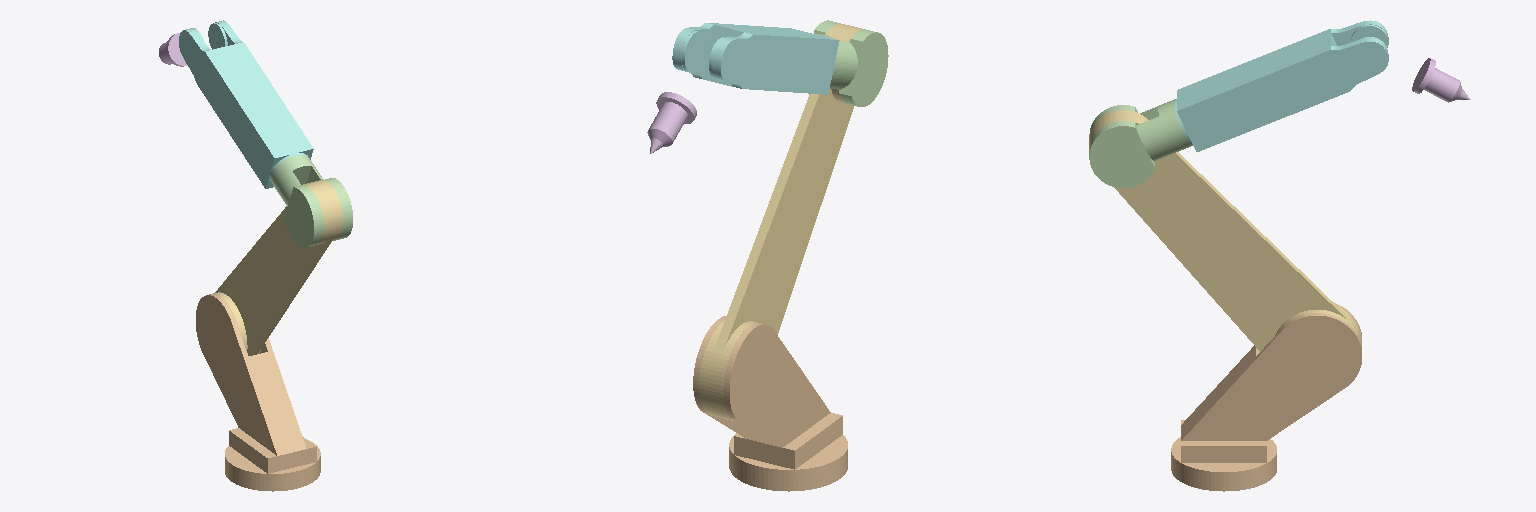
The robot description file, URDF, robot "sero_2":
<robot name="sero_2">

    <link name="world">
    <!--Bleibt erstmal leer -->
    </link>

    <joint name="fixed_link_to_world" type="fixed">
        <parent link="world"/>
        <child link="base"/>
    </joint>    

    <link name="base">
        <visual>
            <origin xyz="-1.5815932371176240324e-17 0.0003676064896688987756 1.2462514743223658495e-17" rpy="-9.3394600618250885692e-16 1.4558378780933280025e-22 -1.0606777952125936304e-24" />
            <geometry>
                <mesh filename="package://sero_2/meshes/base.stl" />
            </geometry>
            <material name="base_material">
                <color rgba="0.89019607843137249503 0.69803921568627447236 0.63921568627450975342 1.0" />
            </material>
        </visual>
        <collision>
            <origin xyz="-1.5815932371176240324e-17 0.0003676064896688987756 1.2462514743223658495e-17" rpy="-9.3394600618250885692e-16 1.4558378780933280025e-22 -1.0606777952125936304e-24" />
            <geometry>
                <mesh filename="package://sero_2/meshes/base.stl" />
            </geometry>
        </collision>
        <inertial>
            <origin xyz="-1.1008906693734771152e-17 0.01712945505275543373 0.053277045661753889838" rpy="0 0 0" />
            <mass value="49.341703062128146939" />
            <inertia ixx="0.48030579732272715709" ixy="2.2775645730969955764e-16" ixz="-1.5614007003723059311e-19" iyy="0.32715051410827444833" iyz="0.026418917266756287293" izz="0.66330772835406781596" />
        </inertial>
    </link>
    <link name="link_01">
        <visual>
            <origin xyz="0 -6.9388937082278788177e-18 0" rpy="3.141592653589793116 -6.6648828361145180298e-38 0" />
            <geometry>
                <mesh filename="package://sero_2/meshes/link_01.stl" />
            </geometry>
            <material name="link_01_material">
                <color rgba="0.92156862745098033773 0.80000000000000004441 0.65490196078431373028 1.0" />
            </material>
        </visual>
        <collision>
            <origin xyz="0 -6.9388937082278788177e-18 0" rpy="3.141592653589793116 -6.6648828361145180298e-38 0" />
            <geometry>
                <mesh filename="package://sero_2/meshes/link_01.stl" />
            </geometry>
        </collision>
        <inertial>
            <origin xyz="-1.3930947794738095121e-17 0.039678416839350458267 -0.088135224166391870626" rpy="0 0 0" />
            <mass value="19.091905974861962392" />
            <inertia ixx="0.17356539548813906815" ixy="1.3064932428437966355e-41" ixz="1.1588565508314935939e-38" iyy="0.10969326521272225461" iyz="0.06154665368139393411" izz="0.097209143603018868807" />
        </inertial>
    </link>
    <link name="link_02">
        <visual>
            <origin xyz="0.3869932029135638718 5.5511151231257827021e-17 -0.020000000000000000416" rpy="-1.4791141972893971351e-31 -0 0" />
            <geometry>
                <mesh filename="package://sero_2/meshes/link_02.stl" />
            </geometry>
            <material name="link_02_material">
                <color rgba="0.94117647058823528106 0.87450980392156862919 0.67843137254901964006 1.0" />
            </material>
        </visual>
        <collision>
            <origin xyz="0.3869932029135638718 5.5511151231257827021e-17 -0.020000000000000000416" rpy="-1.4791141972893971351e-31 -0 0" />
            <geometry>
                <mesh filename="package://sero_2/meshes/link_02.stl" />
            </geometry>
        </collision>
        <inertial>
            <origin xyz="0.19868099262593577614 5.3251367445785958629e-06 -0.019999999999999996947" rpy="0 0 0" />
            <mass value="13.731956551120582333" />
            <inertia ixx="0.018356645947704766653" ixy="-5.0560961534334941903e-06" ixz="5.2055933418348150452e-32" iyy="0.51193263504671415731" iyz="-2.3665497291348866197e-32" izz="0.52790229780144803939" />
        </inertial>
    </link>
    <link name="link_03">
        <visual>
            <origin xyz="0.082936154343289242297 0.040000000000000035527 0.051595448702573779021" rpy="1.570796326794896558 -9.8607613152626475676e-32 -5.5511151231257827021e-17" />
            <geometry>
                <mesh filename="package://sero_2/meshes/link_03.stl" />
            </geometry>
            <material name="link_03_material">
                <color rgba="0.79607843137254896693 0.90588235294117647189 0.74509803921568629193 1.0" />
            </material>
        </visual>
        <collision>
            <origin xyz="0.082936154343289242297 0.040000000000000035527 0.051595448702573779021" rpy="1.570796326794896558 -9.8607613152626475676e-32 -5.5511151231257827021e-17" />
            <geometry>
                <mesh filename="package://sero_2/meshes/link_03.stl" />
            </geometry>
        </collision>
        <inertial>
            <origin xyz="0.027737840329478243018 2.7755575615628913511e-17 0.020000000000000087153" rpy="0 0 0" />
            <mass value="4.3889152375046247556" />
            <inertia ixx="0.0061998414225303945593" ixy="1.1033789677823471709e-18" ixz="-6.0558728947049249777e-34" iyy="0.01303827492757124451" iyz="-6.4283658511776695879e-34" izz="0.012341226150433244266" />
        </inertial>
    </link>
    <link name="link_04">
        <visual>
            <origin xyz="-5.7182229731586198856e-18 -1.1102230246251565404e-16 -0.0050000000000000044409" rpy="1.570796326794896558 7.3955709864469856757e-32 2.7117093616972280811e-31" />
            <geometry>
                <mesh filename="package://sero_2/meshes/link_04.stl" />
            </geometry>
            <material name="link_04_material">
                <color rgba="0.73725490196078435901 0.9372549019607843146 0.91764705882352937127 1.0" />
            </material>
        </visual>
        <collision>
            <origin xyz="-5.7182229731586198856e-18 -1.1102230246251565404e-16 -0.0050000000000000044409" rpy="1.570796326794896558 7.3955709864469856757e-32 2.7117093616972280811e-31" />
            <geometry>
                <mesh filename="package://sero_2/meshes/link_04.stl" />
            </geometry>
        </collision>
        <inertial>
            <origin xyz="6.706124958959406219e-08 2.5645657196301469083e-07 -0.15365038198320141172" rpy="0 0 0" />
            <mass value="15.107736051004897249" />
            <inertia ixx="0.13214990381477231818" ixy="4.4796122324437923437e-08" ixz="-3.024594803775144215e-07" iyy="0.13305214321537708888" iyz="1.9559808232033071674e-07" izz="0.016366262810169347752" />
        </inertial>
    </link>
    <link name="link_05">
        <visual>
            <origin xyz="-0.069999999999999895639 -1.1102230246251565404e-16 0.010000000000000005412" rpy="1.570796326794896558 1.570796326794896558 0" />
            <geometry>
                <mesh filename="package://sero_2/meshes/link_05.stl" />
            </geometry>
            <material name="link_05_material">
                <color rgba="0.76078431372549015776 0.83921568627450982003 0.92549019607843141522 1.0" />
            </material>
        </visual>
        <collision>
            <origin xyz="-0.069999999999999895639 -1.1102230246251565404e-16 0.010000000000000005412" rpy="1.570796326794896558 1.570796326794896558 0" />
            <geometry>
                <mesh filename="package://sero_2/meshes/link_05.stl" />
            </geometry>
        </collision>
        <inertial>
            <origin xyz="-0.035772312271263068117 -1.082749957061830637e-16 -0.019999999999999996947" rpy="0 0 0" />
            <mass value="2.3102574452715738396" />
            <inertia ixx="0.0010511771695403894673" ixy="2.3186664240757424612e-19" ixz="-1.7385449251018909641e-34" iyy="0.003125760927845208214" iyz="7.0337489501620479173e-34" izz="0.0035261880285266476026" />
        </inertial>
    </link>
    <link name="ee">
        <visual>
            <origin xyz="5.9164567891575885406e-31 -1.1102230246251565404e-16 0" rpy="3.141592653589793116 -0 9.8607613152626475676e-32" />
            <geometry>
                <mesh filename="package://sero_2/meshes/ee.stl" />
            </geometry>
            <material name="ee_material">
                <color rgba="0.85098039215686271941 0.7568627450980391913 0.86666666666666669627 1.0" />
            </material>
        </visual>
        <collision>
            <origin xyz="5.9164567891575885406e-31 -1.1102230246251565404e-16 0" rpy="3.141592653589793116 -0 9.8607613152626475676e-32" />
            <geometry>
                <mesh filename="package://sero_2/meshes/ee.stl" />
            </geometry>
        </collision>
        <inertial>
            <origin xyz="4.5844704651727837579e-19 -1.1074837707529742556e-16 -0.029621700270214084555" rpy="0 0 0" />
            <mass value="0.79097658475267251799" />
            <inertia ixx="0.00046375431396383494332" ixy="2.2864852994603759838e-34" ixz="8.1535948214775546414e-35" iyy="0.00046375431396383494332" iyz="-1.1475164562417600293e-20" izz="0.00020671818738927610188" />
        </inertial>
    </link>
    <joint name="fastened" type="fixed">
        <origin xyz="-0.095000000000000028866 0 -0.019999999999999965722" rpy="3.141592653589793116 -1.5707963267948950037 0" />
        <parent link="link_05" />
        <child link="ee" />
        <axis xyz="0 0 1" />
        <limit effort="10" velocity="3.14"  />
        <dynamics damping="1.0" friction="1.0" />
    </joint>
    <joint name="j5" type="revolute">
        <origin xyz="0.019999999999999986539 -1.1102230246251565404e-16 -0.32499999999999845679" rpy="1.5707963267948970021 -0.6422904971427879639 1.5707963267948992225" />
        <parent link="link_04" />
        <child link="link_05" />
        <axis xyz="0 0 1" />
        <limit effort="10" velocity="3.14" lower="-1" upper="2.8792" />
        <dynamics damping="1.0" friction="1.0" />
    </joint>
    <joint name="j4" type="revolute">
        <origin xyz="0.1052999999999999492 0 0.020000000000000059397" rpy="5.5511151231257814695e-17 -1.5707963267948952257 0" />
        <parent link="link_03" />
        <child link="link_04" />
        <axis xyz="0 0 1" />
        <limit effort="10" velocity="3.14" lower="-6.283185307" upper="6.283185307" />
        <dynamics damping="1.0" friction="1.0" />
    </joint>
    <joint name="j3" type="revolute">
        <origin xyz="0.47249999999999992006 5.5511151231257827021e-17 -0.039999999999999993894" rpy="-3.9099808047474802371e-16 6.5349778921725544513e-18 -1.8702914936790970835" />
        <parent link="link_02" />
        <child link="link_03" />
        <axis xyz="0 0 1" />
        <limit effort="10" velocity="3.14" lower="0" upper="3.4906585039886590671" />
        <dynamics damping="1.0" friction="1.0" />
    </joint>
    <joint name="j2" type="revolute">
        <origin xyz="-0.020000000000000003886 0.14873863542433760077 -0.20873863542433754303" rpy="1.5707963267948958919 0.855974613270912843 -1.57079632679489678" />
        <parent link="link_01" />
        <child link="link_02" />
        <axis xyz="0 0 1" />
         <limit effort="10" velocity="3.14" lower="-1.8174" upper="0" />
        <dynamics damping="1.0" friction="1.0" />
    </joint>
    <joint name="j1" type="revolute">
        <origin xyz="-1.3877787807814459837e-17 0.060367606489668872161 0.12000000000000006495" rpy="-3.1415926535897793492 -8.8628477392845443571e-22 3.141592653589793116" />
        <parent link="base" />
        <child link="link_01" />
        <axis xyz="0 0 1" />
        <limit effort="10" velocity="3.14" lower="-6.283185307" upper="6.283185307" />
        <dynamics damping="1.0" friction="1.0" />
    </joint>

    <!-- Transmission -->

    <transmission name="trans_j5">
        <type>transmission_interface/SimpleTransmission</type>
        <joint name="j5">
            <hardwareInterface>hardware_interface/EffortJointInterface</hardwareInterface>
        </joint>
        <actuator name="j5_motor">
            <hardwareInterface>hardware_interface/EffortJointInterface</hardwareInterface>
            <mechanicalReduction>1</mechanicalReduction>
        </actuator>
    </transmission>
    <transmission name="trans_j4">
        <type>transmission_interface/SimpleTransmission</type>
        <joint name="j4">
            <hardwareInterface>hardware_interface/EffortJointInterface</hardwareInterface>
        </joint>
        <actuator name="j4_motor">
            <hardwareInterface>hardware_interface/EffortJointInterface</hardwareInterface>
            <mechanicalReduction>1</mechanicalReduction>
        </actuator>
    </transmission>
    <transmission name="trans_j3">
        <type>transmission_interface/SimpleTransmission</type>
        <joint name="j3">
            <hardwareInterface>hardware_interface/EffortJointInterface</hardwareInterface>
        </joint>
        <actuator name="j3_motor">
            <hardwareInterface>hardware_interface/EffortJointInterface</hardwareInterface>
            <mechanicalReduction>1</mechanicalReduction>
        </actuator>
    </transmission>
    <transmission name="trans_j2">
        <type>transmission_interface/SimpleTransmission</type>
        <joint name="j2">
            <hardwareInterface>hardware_interface/EffortJointInterface</hardwareInterface>
        </joint>
        <actuator name="j2_motor">
            <hardwareInterface>hardware_interface/EffortJointInterface</hardwareInterface>
            <mechanicalReduction>1</mechanicalReduction>
        </actuator>
    </transmission>
    <transmission name="trans_j1">
        <type>transmission_interface/SimpleTransmission</type>
        <joint name="j1">
            <hardwareInterface>hardware_interface/EffortJointInterface</hardwareInterface>
        </joint>
        <actuator name="j1_motor">
            <hardwareInterface>hardware_interface/EffortJointInterface</hardwareInterface>
            <mechanicalReduction>1</mechanicalReduction>
        </actuator>
    </transmission>


    <!--MoveIt Setup Assistant -->
    <!--
    <transmission name="trans_j5">
        <type>transmission_interface/SimpleTransmission</type>
        <joint name="j5">
            <hardwareInterface>hardware_interface/PositionJointInterface</hardwareInterface>
        </joint>
        <actuator name="j5_motor">
            <hardwareInterface>hardware_interface/PositionJointInterface</hardwareInterface>
            <mechanicalReduction>1</mechanicalReduction>
        </actuator>
    </transmission>
    <transmission name="trans_j4">
        <type>transmission_interface/SimpleTransmission</type>
        <joint name="j4">
            <hardwareInterface>hardware_interface/PositionJointInterface</hardwareInterface>
        </joint>
        <actuator name="j4_motor">
            <hardwareInterface>hardware_interface/PositionJointInterface</hardwareInterface>
            <mechanicalReduction>1</mechanicalReduction>
        </actuator>
    </transmission>
    <transmission name="trans_j3">
        <type>transmission_interface/SimpleTransmission</type>
        <joint name="j3">
            <hardwareInterface>hardware_interface/PositionJointInterface</hardwareInterface>
        </joint>
        <actuator name="j3_motor">
            <hardwareInterface>hardware_interface/PositionJointInterface</hardwareInterface>
            <mechanicalReduction>1</mechanicalReduction>
        </actuator>
    </transmission>
    <transmission name="trans_j2">
        <type>transmission_interface/SimpleTransmission</type>
        <joint name="j2">
            <hardwareInterface>hardware_interface/PositionJointInterface</hardwareInterface>
        </joint>
        <actuator name="j2_motor">
            <hardwareInterface>hardware_interface/PositionJointInterface</hardwareInterface>
            <mechanicalReduction>1</mechanicalReduction>
        </actuator>
    </transmission>
    <transmission name="trans_j1">
        <type>transmission_interface/SimpleTransmission</type>
        <joint name="j1">
            <hardwareInterface>hardware_interface/PositionJointInterface</hardwareInterface>
        </joint>
        <actuator name="j1_motor">
            <hardwareInterface>hardware_interface/PositionJointInterface</hardwareInterface>
            <mechanicalReduction>1</mechanicalReduction>
        </actuator>
    </transmission>
    -->

    <!--Gazebo Plugins -->
    <gazebo>
        <plugin name="control" filename="libgazebo_ros_control.so">
            <robotNamespace>/</robotNamespace>
        </plugin>
    </gazebo>
    <gazebo>
        <plugin name = "joint_state_publisher" filename = "libgazebo_ros_joint_state_publisher.so" >
        <jointName>j1, j2, j3, j4, j5 </jointName>
        </plugin>
    </gazebo>
</robot>

--- Render facts (derived) ---
The picture shows the robot from 3 angles, left to right: view 1: azimuth 30°, elevation 25°; view 2: azimuth 150°, elevation 25°; view 3: azimuth 270°, elevation 25°; orthographic projection.
Robot: sero_2 — 8 links, 7 joints (5 revolute, 2 fixed); root link world; default pose: every joint at zero.
Visible links, largest first — view 1: link_01, link_04, link_02, link_03, ee; view 2: link_01, link_02, link_04, link_03, ee; view 3: link_01, link_02, link_04, link_03, ee.
Link boxes in pixels (left/top/right/bottom): link_01: left=196, top=294, right=320, bottom=491; link_04: left=179, top=20, right=313, bottom=188; link_02: left=213, top=180, right=343, bottom=355; link_03: left=271, top=155, right=352, bottom=247; ee: left=159, top=32, right=187, bottom=66; link_01: left=693, top=316, right=847, bottom=491; link_02: left=699, top=23, right=862, bottom=420; link_04: left=672, top=23, right=839, bottom=94; link_03: left=809, top=20, right=888, bottom=106; ee: left=647, top=92, right=696, bottom=153; link_01: left=1171, top=303, right=1361, bottom=491; link_02: left=1089, top=110, right=1361, bottom=351; link_04: left=1174, top=20, right=1388, bottom=151; link_03: left=1089, top=100, right=1191, bottom=187; ee: left=1412, top=58, right=1470, bottom=102.
Bounding box of the posed robot: 0.17 × 0.6104 × 0.7738 m (x, y, z).
5 mesh visuals loaded from 7 distinct referenced files (5 binary STL); not drawn: 2 (reference not matched to a file when rendering).